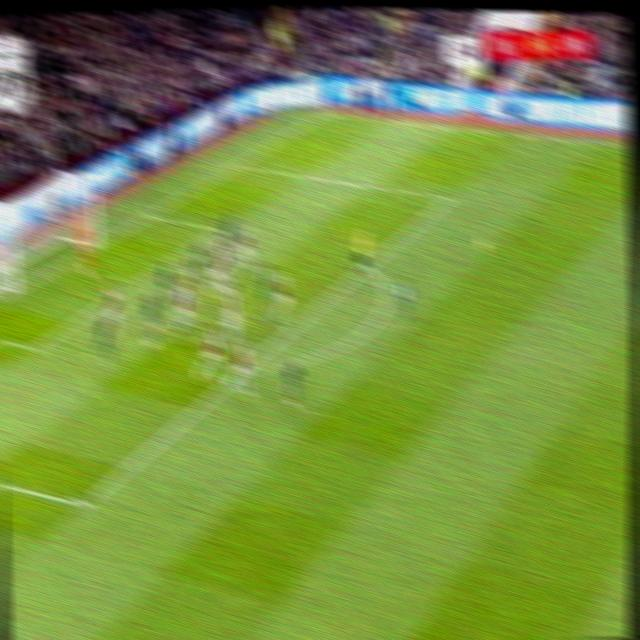bigarea_bottom_inner: (71, 489, 98, 521)
bigarea_top_inner: (441, 187, 459, 207)
bigarea_top_outter: (228, 158, 244, 172)
corner: (316, 108, 333, 118)
smallarea_bottom_inner: (23, 332, 45, 361)
smallarea_top_inner: (211, 220, 228, 238)
smallarea_top_outter: (140, 207, 159, 224)
top_arc_area_intersection: (360, 256, 375, 273)
